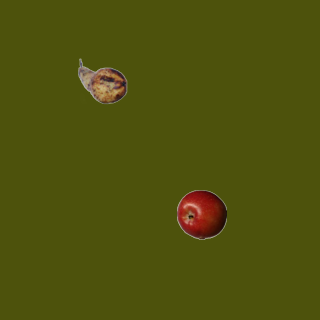Apple Braeburn: (176, 189, 226, 239)
Pear Abate: (77, 56, 127, 106)
